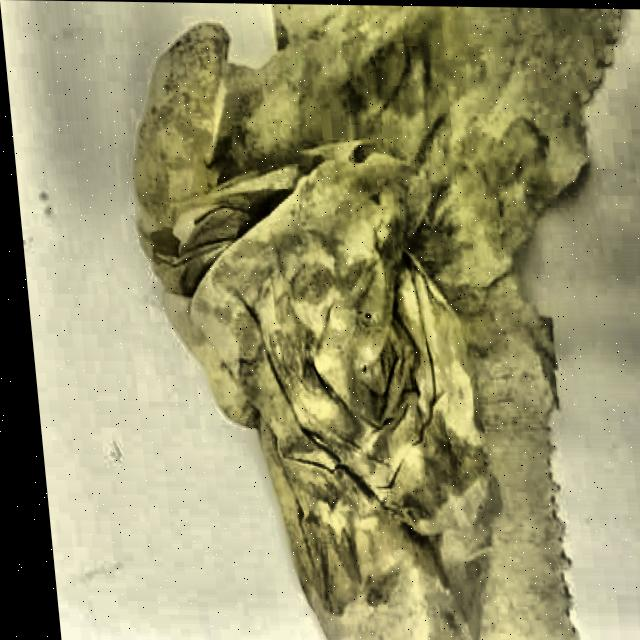paper: (117, 2, 640, 640)
